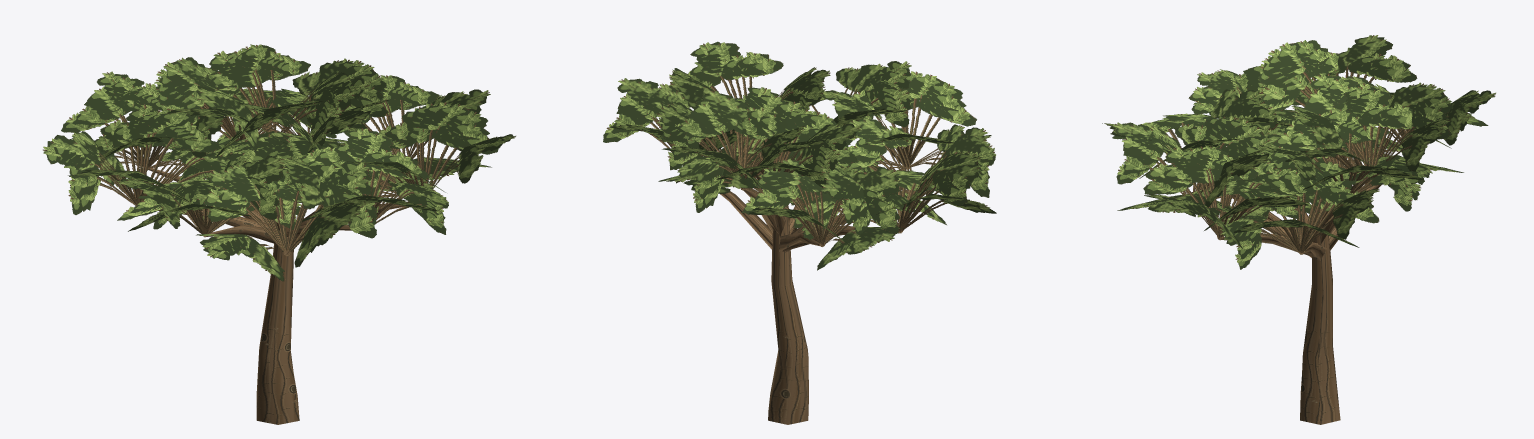
Rendered from savanna-acacia-near.glb.
The picture shows the model from 3 angles, left to right: view 1: azimuth 30°, elevation 25°; view 2: azimuth 150°, elevation 25°; view 3: azimuth 270°, elevation 25°; orthographic projection. The views are drawn at different scales.
Visible parts, largest first — view 1: Savanna acacia near v3 runtime; view 2: Savanna acacia near v3 runtime; view 3: Savanna acacia near v3 runtime.
Part boxes in pixels (bbox=[...]): Savanna acacia near v3 runtime: bbox=[43, 44, 515, 424]; Savanna acacia near v3 runtime: bbox=[603, 41, 996, 424]; Savanna acacia near v3 runtime: bbox=[1102, 35, 1495, 424].
Bounding box in the file's own units: 10.99 × 7.37 × 9.68.
Materials: 1 (1 with a texture image).
